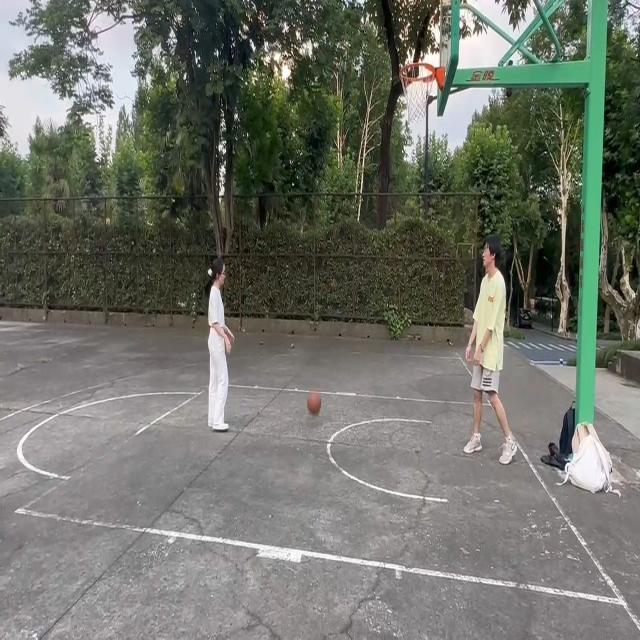basketball: (396, 60, 445, 128)
rim: (307, 388, 323, 419)
